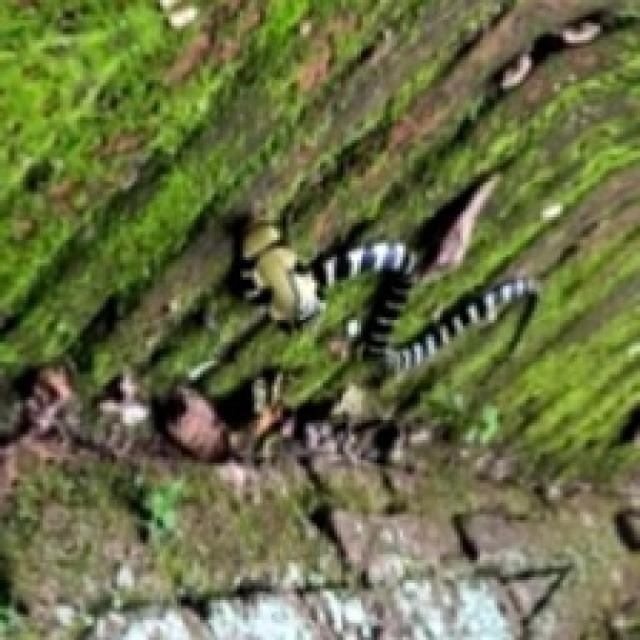king cobra: (240, 174, 537, 369)
